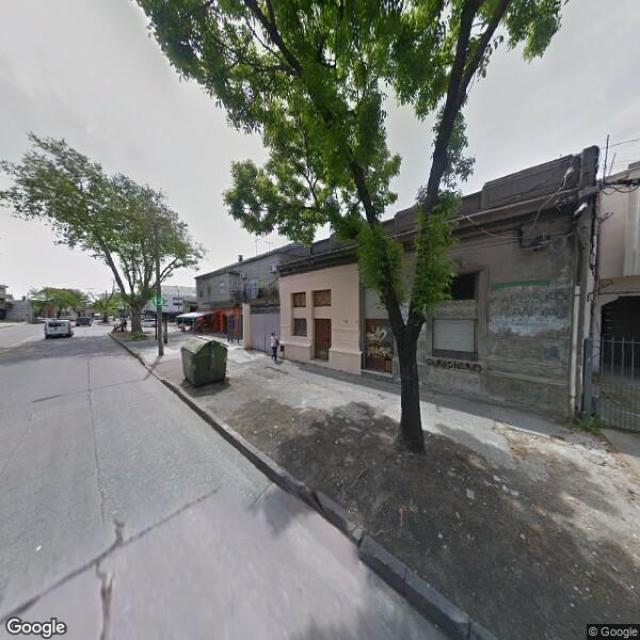garbage container: (177, 333, 237, 403)
